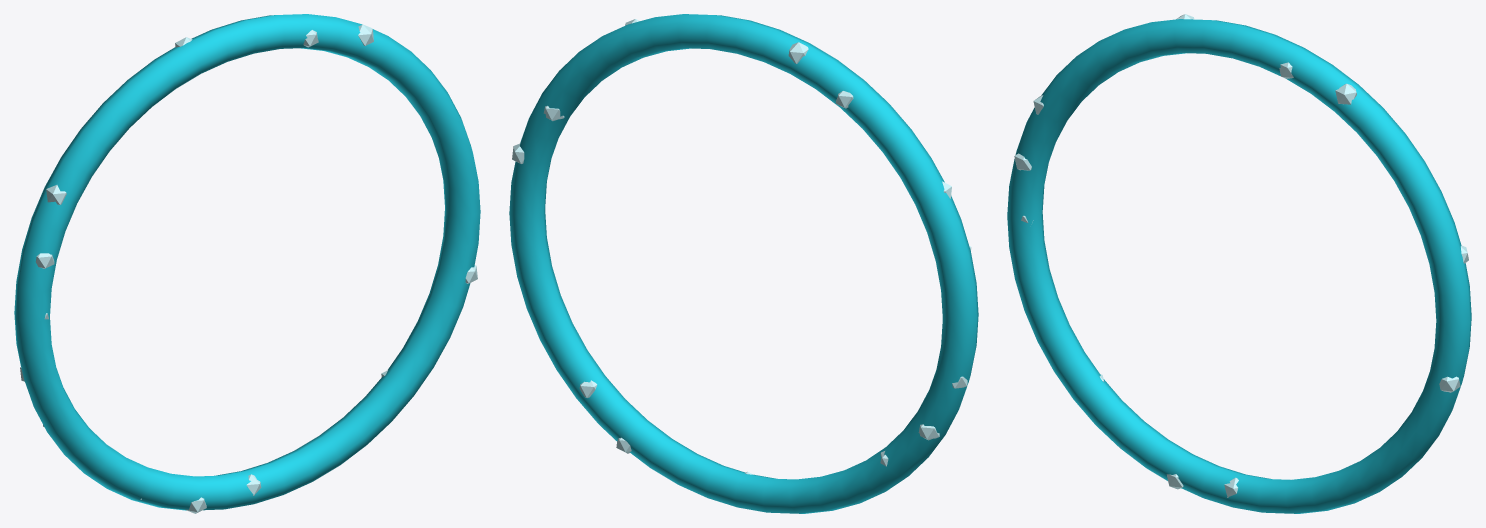
Rendered from water-hoop.glb.
The picture shows the model from 3 angles, left to right: view 1: azimuth 30°, elevation 25°; view 2: azimuth 150°, elevation 25°; view 3: azimuth 330°, elevation 25°; orthographic projection.
Parts seen in each view (by area): view 1: Water Hoop; view 2: Water Hoop; view 3: Water Hoop.
Boxes of the visible parts, <box> form: Water Hoop: <box>14,14,480,510</box>; Water Hoop: <box>509,14,978,513</box>; Water Hoop: <box>1007,19,1471,513</box>.
Bounding box in the file's own units: 5.8 × 5.8 × 0.4571.
